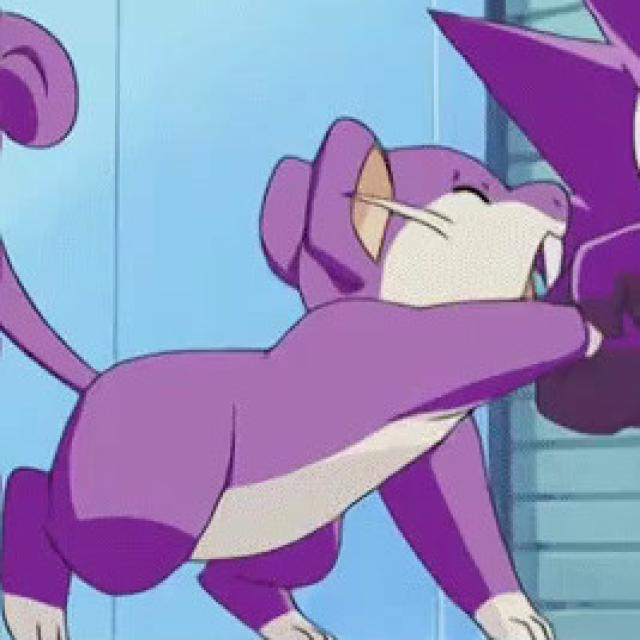Rattata: (51, 143, 592, 640)
